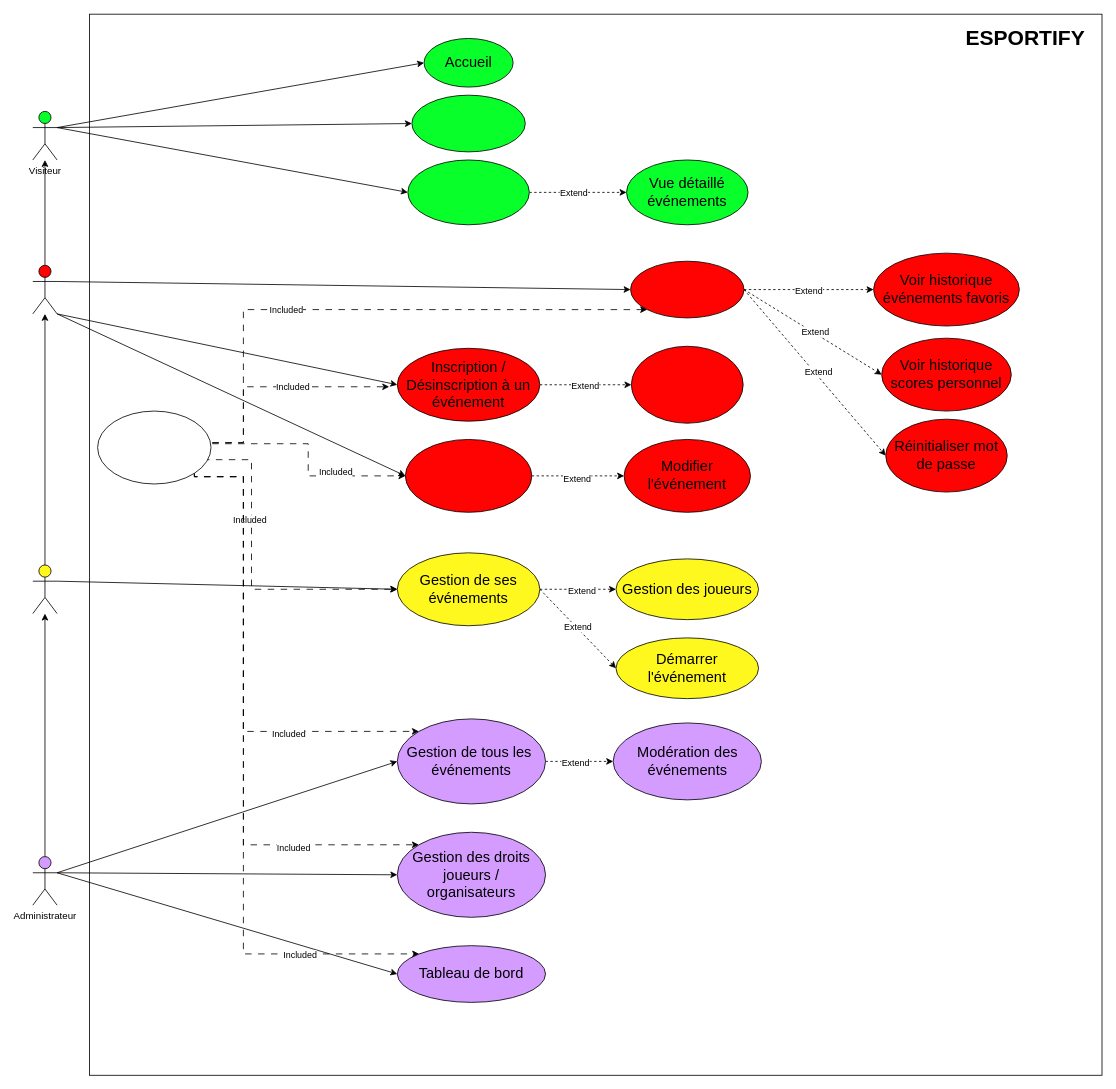
The diagram is 1116 pixels wide and 1089 high, and some of its shapes have lost their labels. The centre of each missing label's shape, as x and y in pixels:
"Connexion" belongs at point 154,447.
"Création compte" belongs at point 468,123.
"Créer un événement" belongs at point 468,475.
"Employé" belongs at point 44,589.
"Espace personnel" belongs at point 687,289.
"Joueur" belongs at point 44,289.
"Rejoindre événement" belongs at point 687,384.
"Vue globale événements" belongs at point 468,192.
